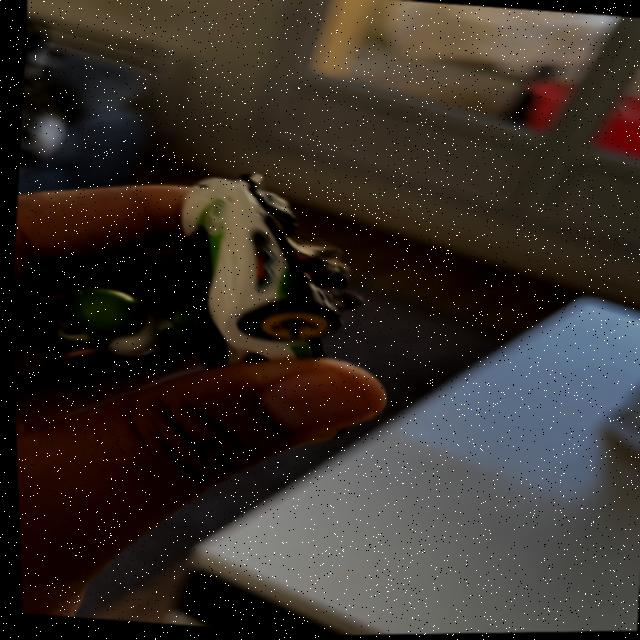yoshi: (33, 146, 351, 424)
